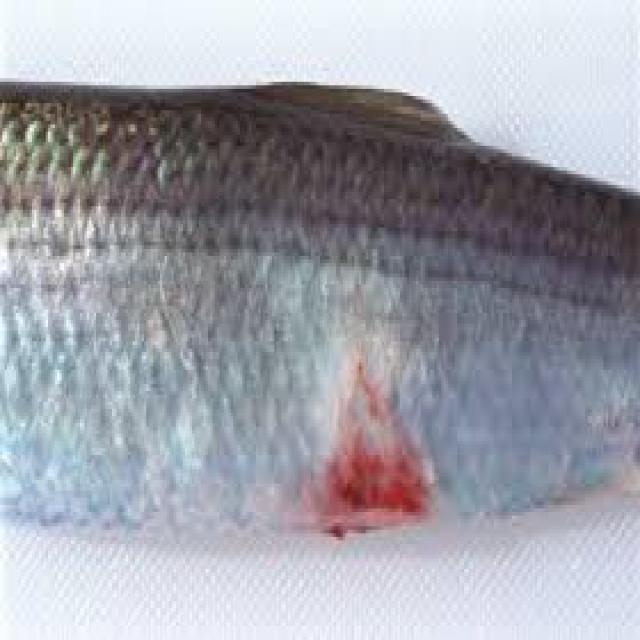EUS Disease: (0, 72, 640, 563), (270, 252, 498, 545)
